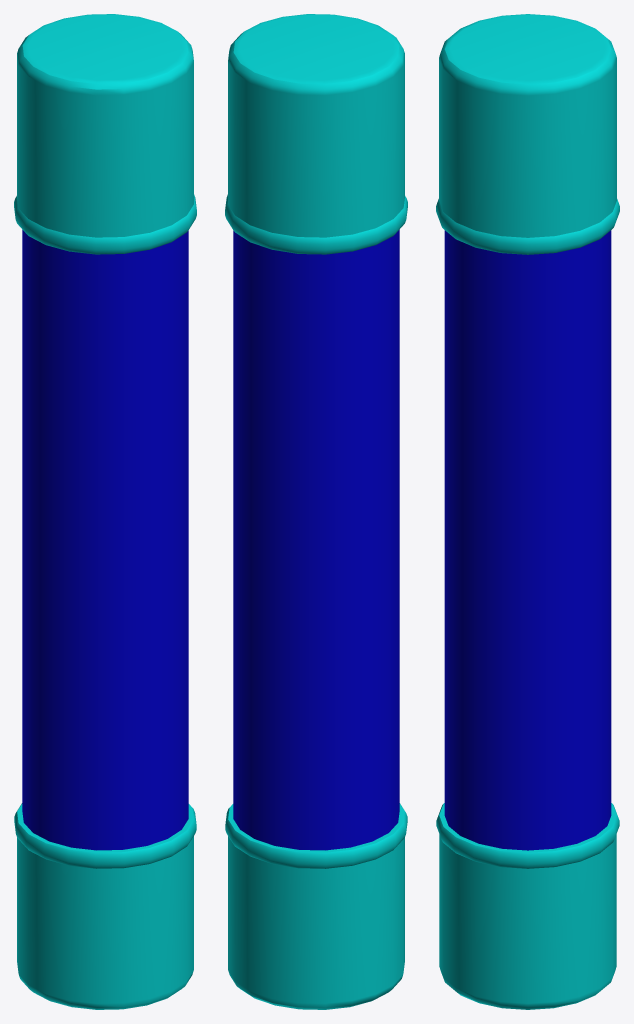
The model's file is FBX_Fuse.fbx.
3 renders of one model, left to right at view 1: azimuth 30°, elevation 25°; view 2: azimuth 150°, elevation 25°; view 3: azimuth 270°, elevation 25°, orthographic.
Visible parts, largest first — view 1: FBX_Fuse; view 2: FBX_Fuse; view 3: FBX_Fuse.
Boxes of the visible parts, x1=… form: FBX_Fuse: x1=14, y1=14, x2=196, y2=1009; FBX_Fuse: x1=225, y1=14, x2=407, y2=1009; FBX_Fuse: x1=436, y1=14, x2=619, y2=1009.
Bounding box in the file's own units: 2.7 × 15.07 × 2.7.
